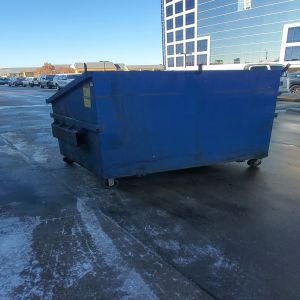Dumpster: (48, 70, 282, 191)
